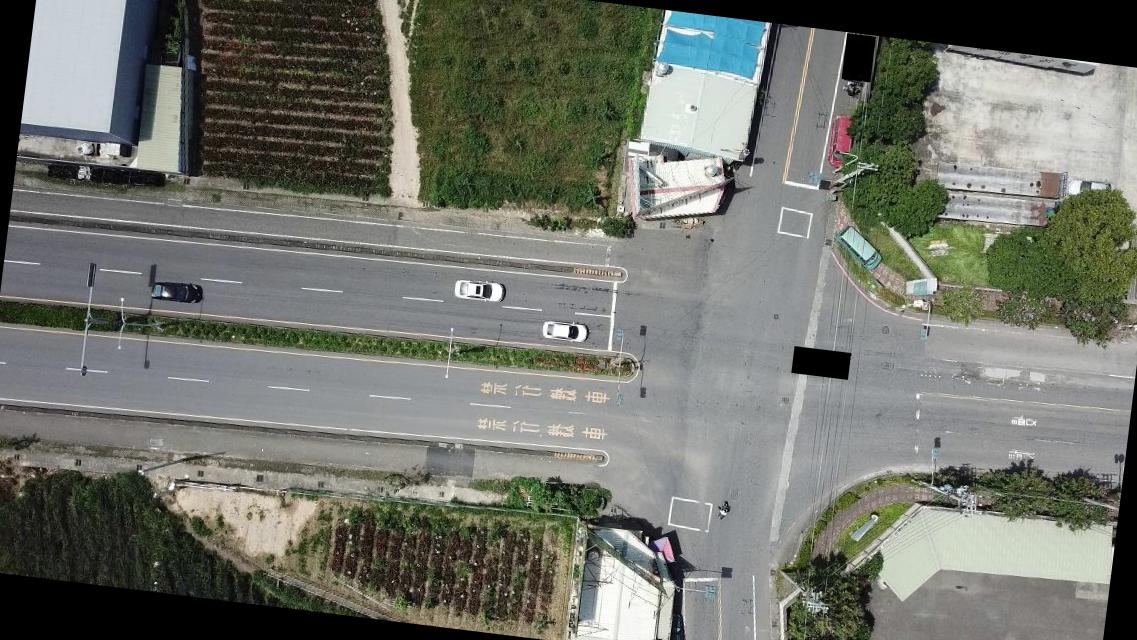vehicle: (832, 222, 886, 273), (824, 112, 856, 174), (537, 316, 589, 346), (452, 275, 505, 304), (152, 276, 204, 304), (1067, 178, 1120, 201), (668, 613, 690, 639)
